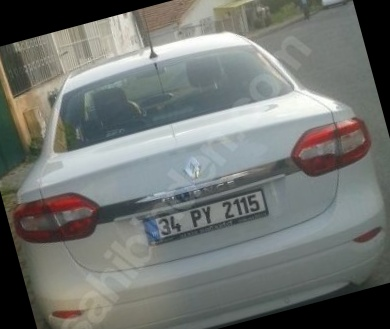plaka: (155, 191, 263, 237)
